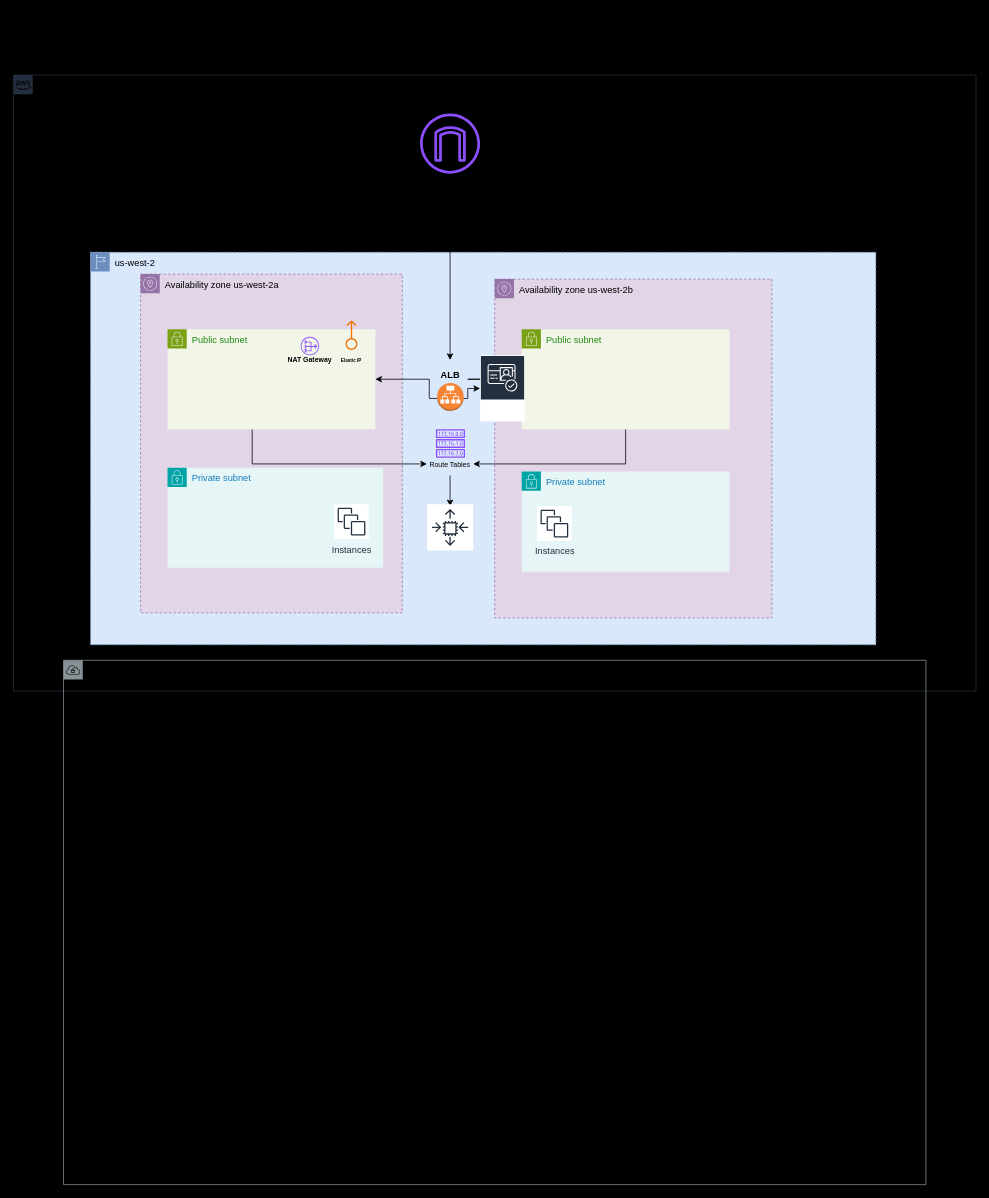
Image size: 989x1198. Some labels were removed from this diagram. The box of each missing label's shape, as (x1, y1, x2, y2) in pixels:
Amazon Cognito: (479, 355, 525, 422)
Auto Scaling: (426, 504, 473, 551)
AWS Cloud: (13, 74, 976, 691)
VPC: (63, 660, 926, 1185)
